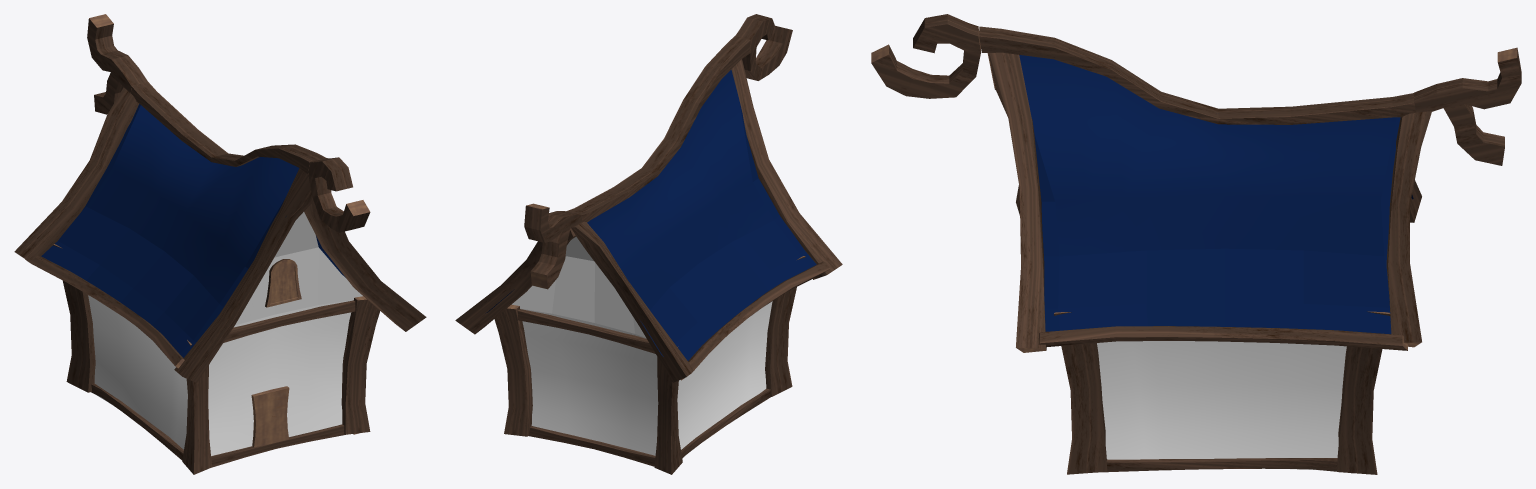
Rendered from classic1.fbx.
The picture shows the model from 3 angles, left to right: view 1: azimuth 30°, elevation 25°; view 2: azimuth 150°, elevation 25°; view 3: azimuth 270°, elevation 25°; orthographic projection. The views are drawn at different scales.
Visible parts, largest first — view 1: Box1344, Object1589, Object1517, Object1516, Object1507, Box1328, Object1500, Object1499, Object1498, Object1510, Object1508, Object1515 (+5 smaller); view 2: Box1344, Object1589, Box1328, Object1517, Object1516, Object1509, Object1498, Object1499, Object1506, Object1508, Object1510, Object1515 (+3 smaller); view 3: Box1344, Object1589, Box1328, Object1507, Object1506, Object1503, Object1498, Object1499, Object1500, Object1509, Object1502.
Boxes of the visible parts, x1,y1,x2,y2 form: Box1344: [41, 104, 345, 357]; Object1589: [88, 212, 362, 455]; Object1517: [174, 168, 313, 382]; Object1516: [14, 87, 138, 262]; Object1507: [304, 197, 426, 331]; Box1328: [131, 82, 325, 174]; Object1500: [341, 296, 379, 434]; Object1499: [308, 157, 370, 232]; Object1498: [87, 14, 147, 114]; Object1510: [53, 244, 95, 392]; Object1508: [182, 340, 211, 474]; Object1515: [25, 255, 184, 368]; Box1344: [485, 70, 816, 360]; Object1589: [512, 236, 772, 457]; Box1328: [566, 36, 750, 222]; Object1517: [731, 59, 842, 279]; Object1516: [571, 221, 693, 382]; Object1509: [494, 304, 532, 436]; Object1498: [524, 203, 582, 289]; Object1499: [735, 14, 792, 80]; Object1506: [455, 228, 575, 334]; Object1508: [765, 256, 805, 396]; Object1510: [654, 346, 682, 474]; Object1515: [681, 261, 830, 380]; Box1344: [1019, 55, 1413, 334]; Object1589: [1097, 341, 1346, 470]; Box1328: [979, 26, 1415, 124]; Object1507: [988, 52, 1046, 352]; Object1506: [1386, 111, 1431, 347]; Object1503: [1038, 326, 1407, 350]; Object1498: [1414, 47, 1521, 165]; Object1499: [871, 14, 980, 98]; Object1500: [1054, 312, 1107, 474]; Object1509: [1337, 311, 1390, 474]; Object1502: [1097, 458, 1351, 473].
Size of the model in its own units: 455 by 586 by 853.
